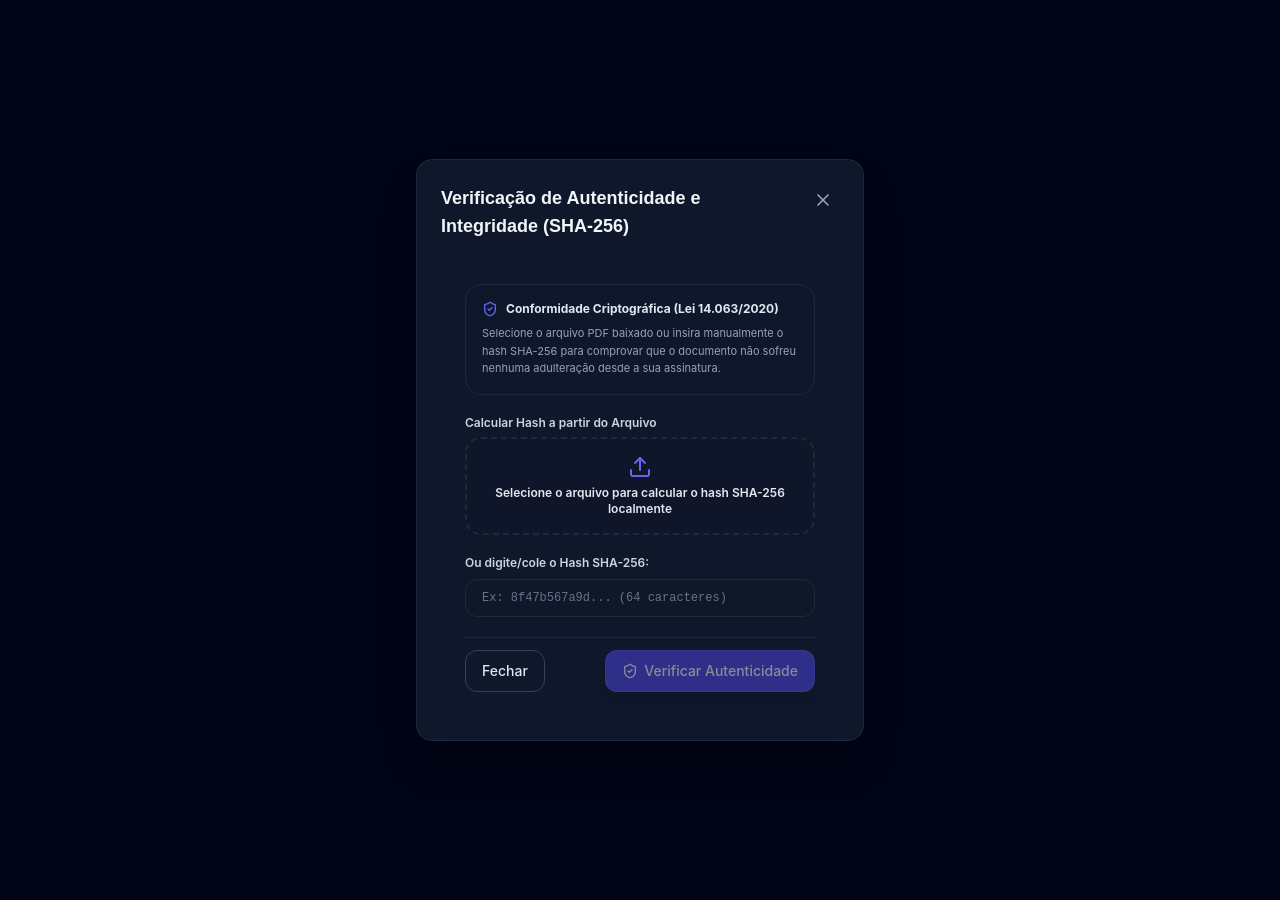
Test case: Electronic Signatures Frontend (T-34) › 4. VerifyHashModal Component › verifies SHA-256 hash against backend and displays authentic badge
The width and height of the screenshot is (1280, 900).
Check: the heading "Verificação de Autenticidade e Integridade (SHA-256)" is shown, box [441, 188, 700, 236]
// Input 64 char hash
Type "f0e1d2c3b4a59876543210fedcba9876543210fedcba9876543210fedcba9876" into the field with placeholder "Ex: 8f47b567a9d... (64 caracteres)" at (640, 598), box [465, 579, 815, 617]
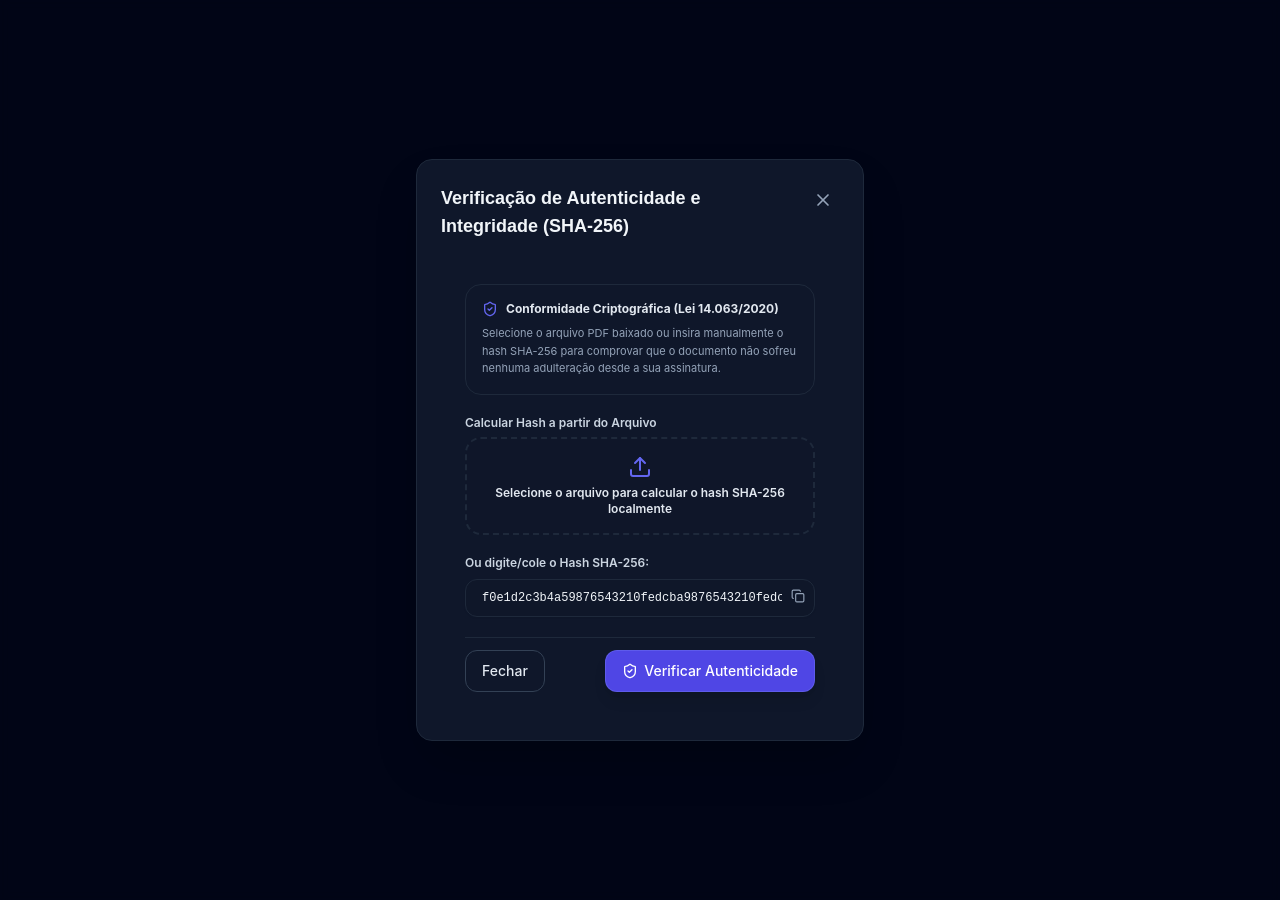
// Click verify
Click the button "Verificar Autenticidade" at (710, 671), box [605, 650, 815, 692]
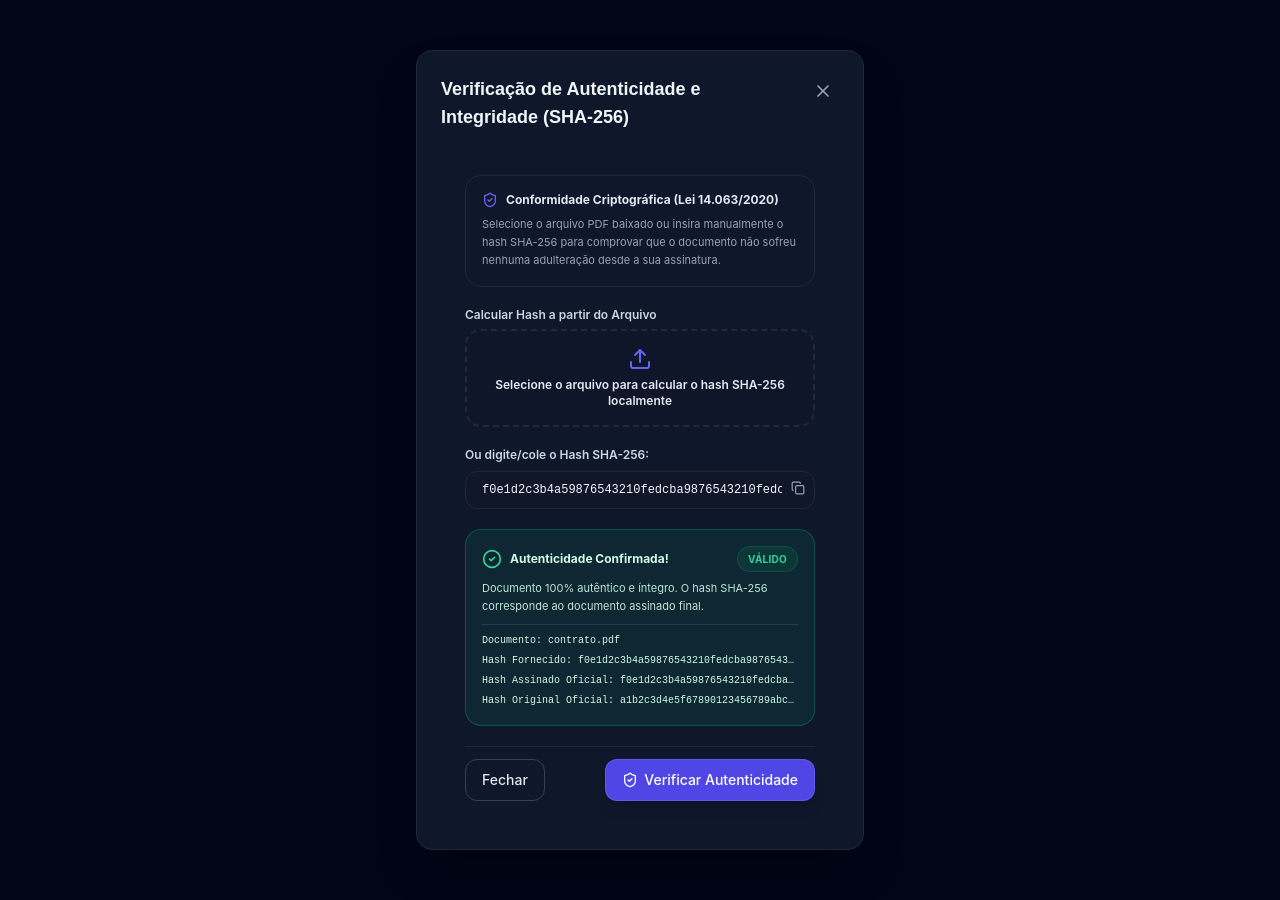
Check: the text "Autenticidade Confirmada!" is shown, box [510, 551, 669, 567]
Check: the text "VÁLIDO" is shown, box [737, 546, 798, 572]
